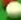white: (0, 0, 21, 20)
